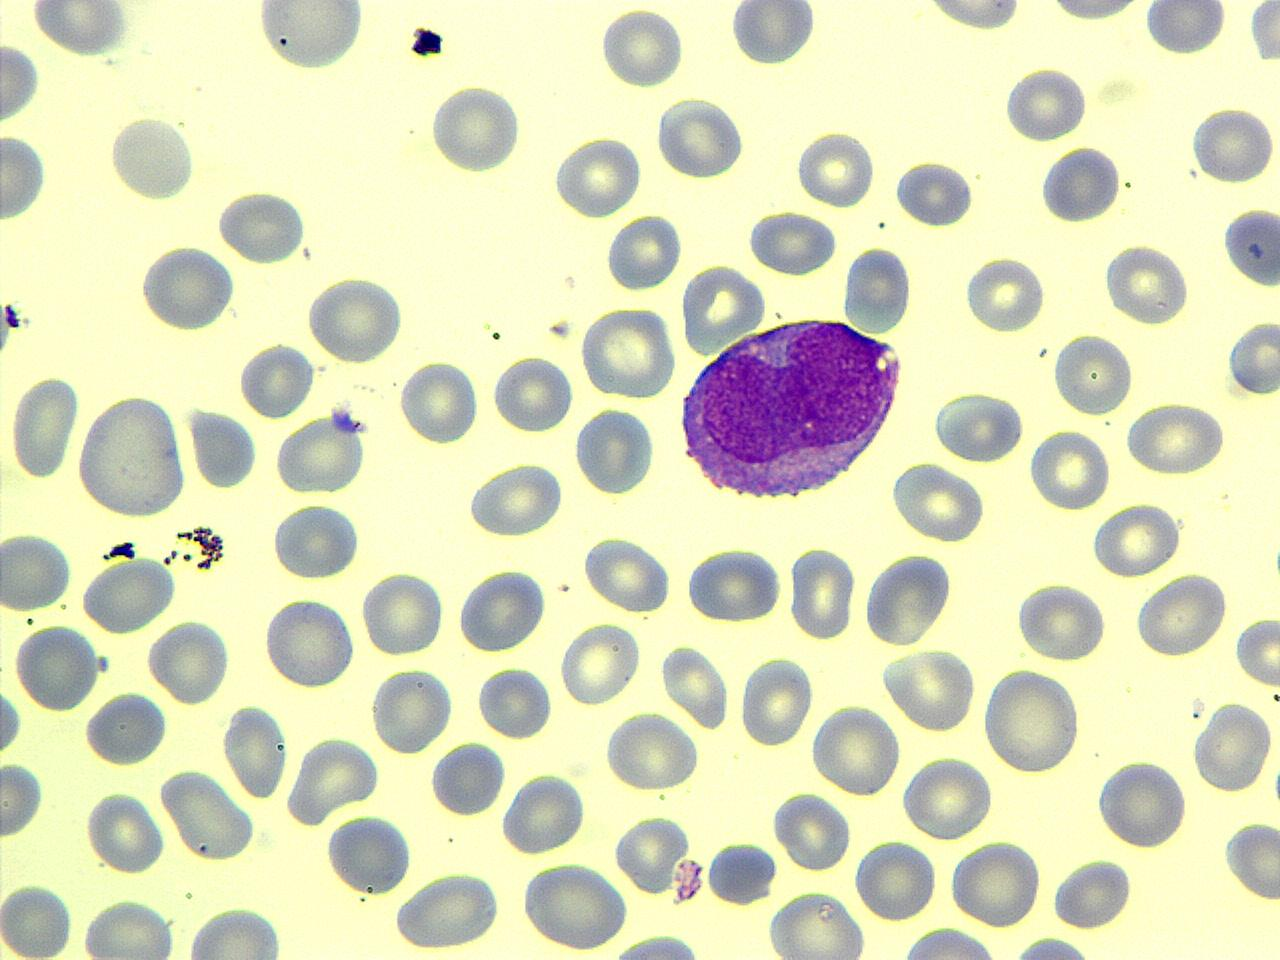Platelets: (276, 413, 372, 497), (726, 3, 818, 68), (1222, 202, 1280, 289), (1141, 2, 1227, 58), (2, 299, 20, 333)
RBC: (75, 389, 188, 519), (982, 664, 1083, 774), (520, 858, 630, 952), (576, 304, 678, 403), (286, 730, 382, 830), (260, 596, 358, 692), (159, 765, 259, 859), (392, 869, 505, 952), (306, 272, 405, 366), (429, 81, 524, 178), (810, 700, 904, 798), (1095, 756, 1189, 852), (139, 241, 236, 334), (888, 456, 988, 546), (879, 644, 979, 734), (861, 549, 953, 646), (948, 837, 1044, 929), (1134, 568, 1230, 660), (1124, 397, 1230, 479), (1190, 696, 1274, 796), (78, 554, 180, 636), (679, 260, 766, 356), (251, 2, 368, 73), (551, 133, 645, 221), (604, 708, 700, 794), (900, 754, 996, 840), (6, 372, 80, 482), (467, 459, 567, 540), (456, 567, 548, 655), (1012, 578, 1108, 662), (13, 621, 100, 713), (147, 615, 234, 707), (360, 567, 446, 660), (686, 542, 782, 625), (110, 113, 196, 205), (369, 662, 454, 755), (274, 412, 368, 496), (655, 94, 746, 180), (397, 355, 480, 449), (324, 810, 414, 896), (1051, 328, 1135, 420), (558, 618, 642, 710), (738, 653, 816, 752), (574, 404, 657, 497), (214, 186, 310, 266), (1103, 241, 1191, 328), (499, 770, 590, 854), (852, 836, 940, 922), (931, 386, 1025, 466), (600, 5, 686, 92), (1189, 103, 1277, 188), (582, 532, 672, 614), (84, 786, 166, 876), (272, 500, 362, 582), (767, 887, 869, 959), (1027, 426, 1113, 511), (1089, 500, 1181, 579), (960, 252, 1046, 336), (1037, 142, 1123, 226), (793, 126, 876, 211), (221, 700, 290, 800), (612, 810, 692, 896), (1002, 64, 1088, 144), (83, 688, 171, 766), (788, 543, 858, 641), (658, 640, 732, 731), (79, 894, 181, 960), (491, 352, 573, 434), (1049, 854, 1135, 932), (773, 789, 851, 873), (606, 210, 684, 294), (746, 207, 838, 278), (842, 244, 913, 335), (0, 528, 74, 613), (476, 662, 554, 742), (0, 878, 76, 960), (428, 740, 506, 819), (188, 402, 257, 491), (239, 340, 315, 420), (728, 0, 816, 69), (182, 904, 286, 960), (894, 157, 976, 228), (30, 0, 130, 57), (702, 838, 780, 905), (1222, 816, 1280, 905), (1221, 204, 1279, 290), (1142, 0, 1228, 58), (1225, 314, 1279, 400), (0, 131, 49, 223), (0, 758, 47, 841), (0, 36, 43, 126), (894, 924, 1004, 959), (916, 0, 1027, 34), (1234, 612, 1280, 690), (1037, 0, 1149, 26), (0, 676, 25, 764)
WBC: (670, 310, 912, 504), (704, 838, 779, 908)
